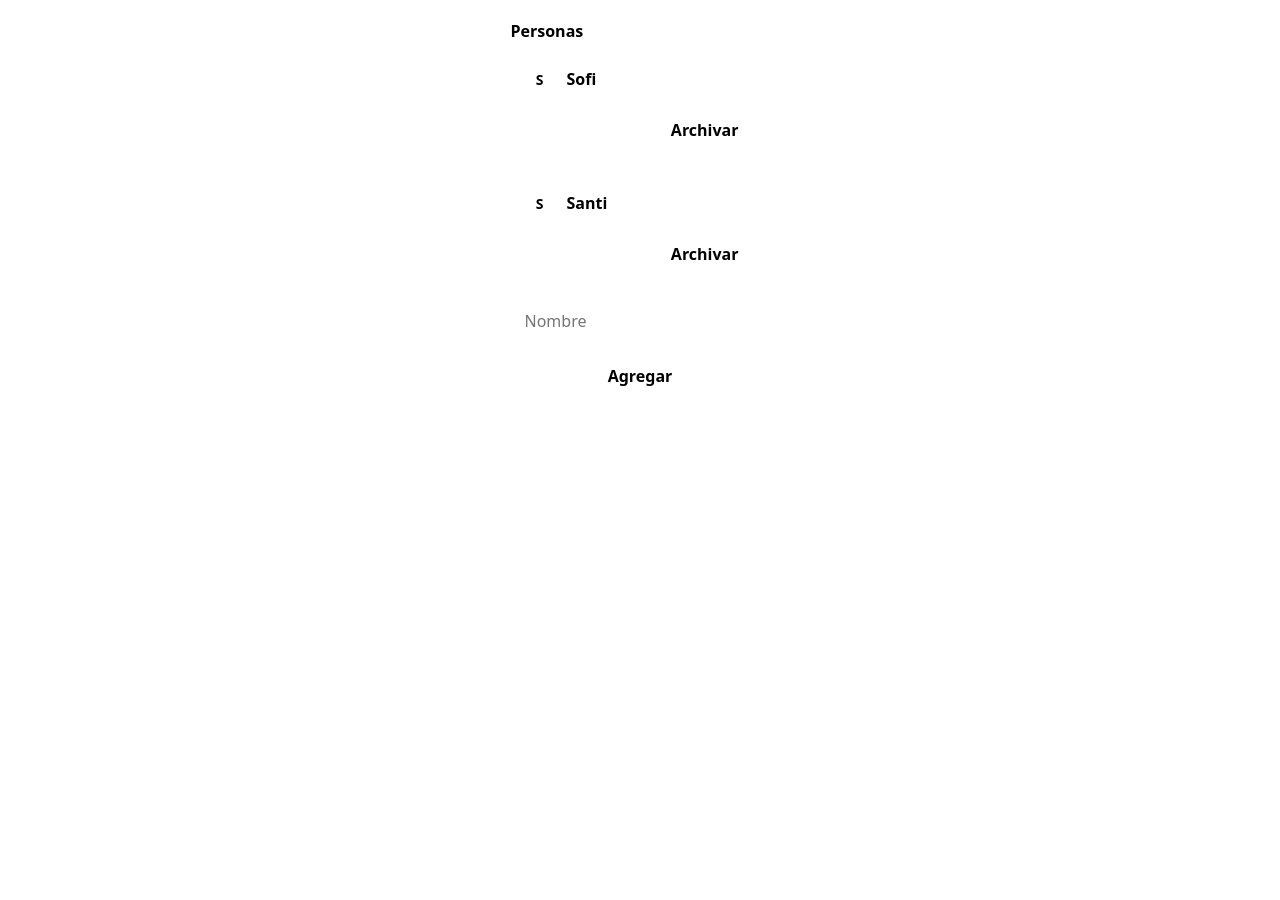
Scenario: MemberSettings › keeps the dialog open and shows the message when archiving fails
This screenshot has width=1280, height=900.
Click the button "Archivar" below "Sofi" at (705, 130), box [652,106,758,154]
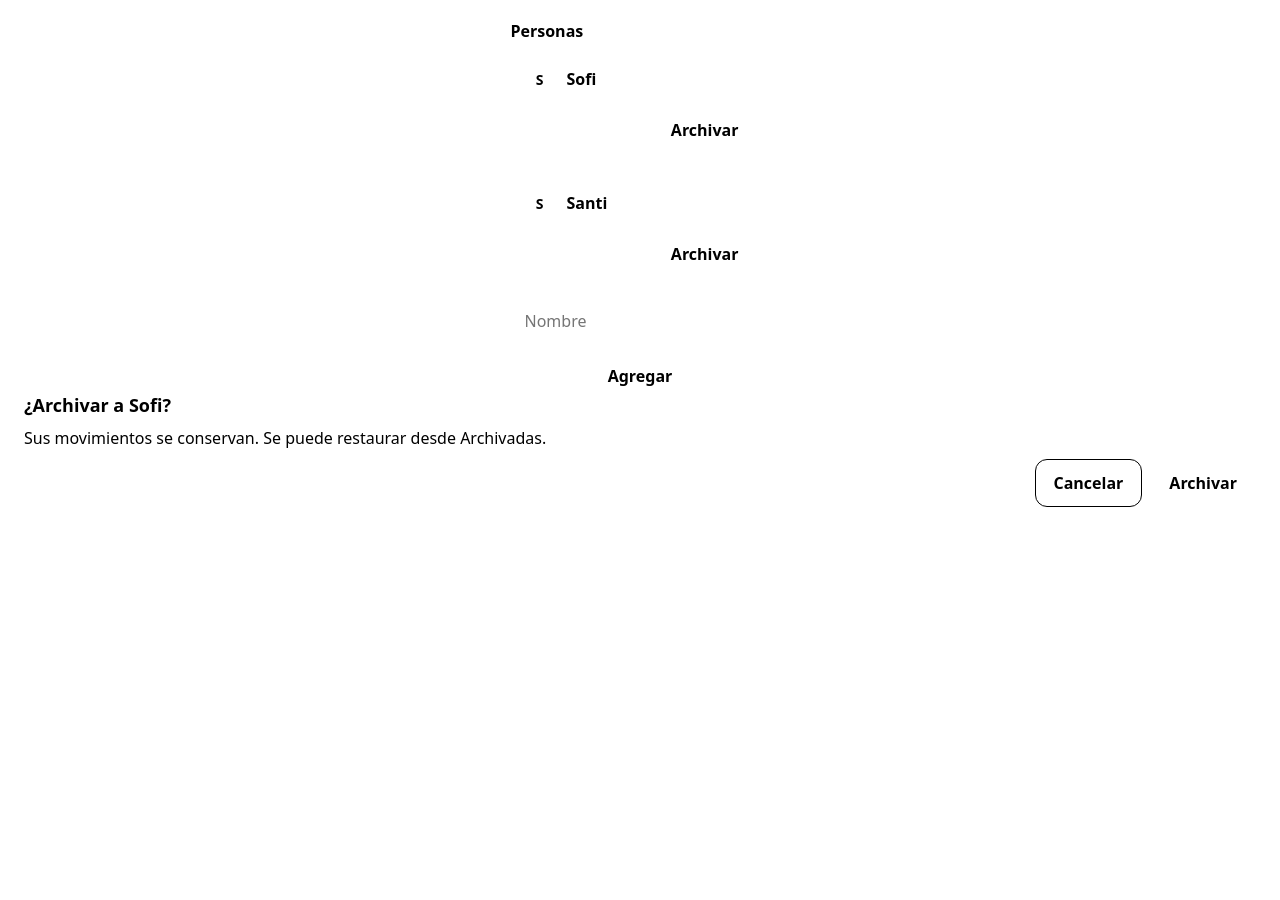
Click the button "Archivar" at (1203, 483), box [1150,459,1256,507]
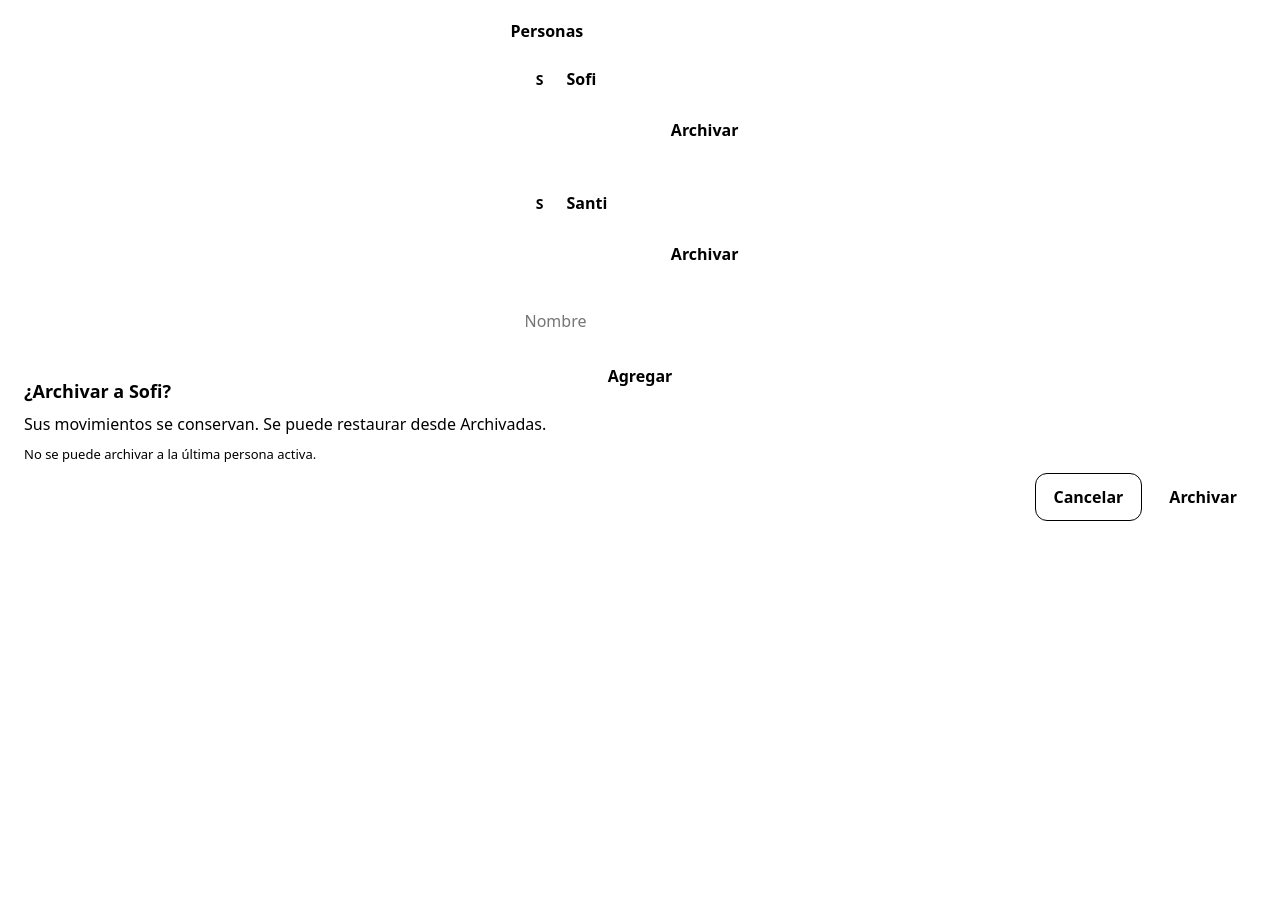
Check: the dialog is shown, box [24,379,1256,521]
Check: the text "No se puede archivar a la última persona activa." is shown, box [24,445,316,463]
